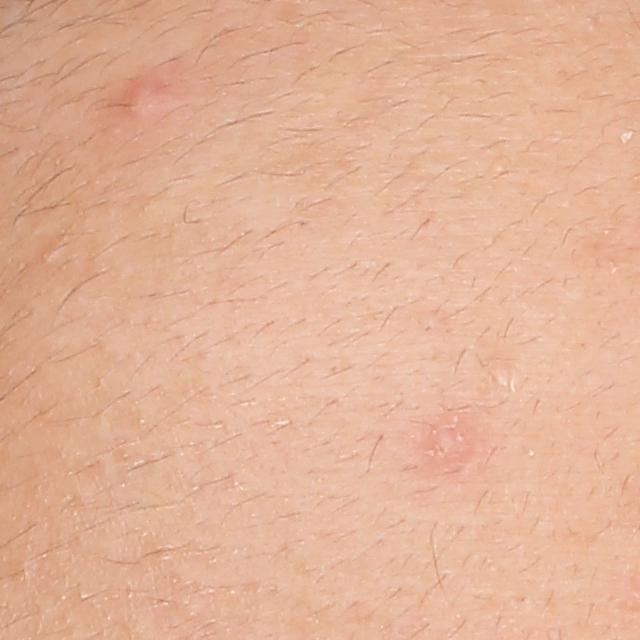papule: (103, 66, 174, 130)
